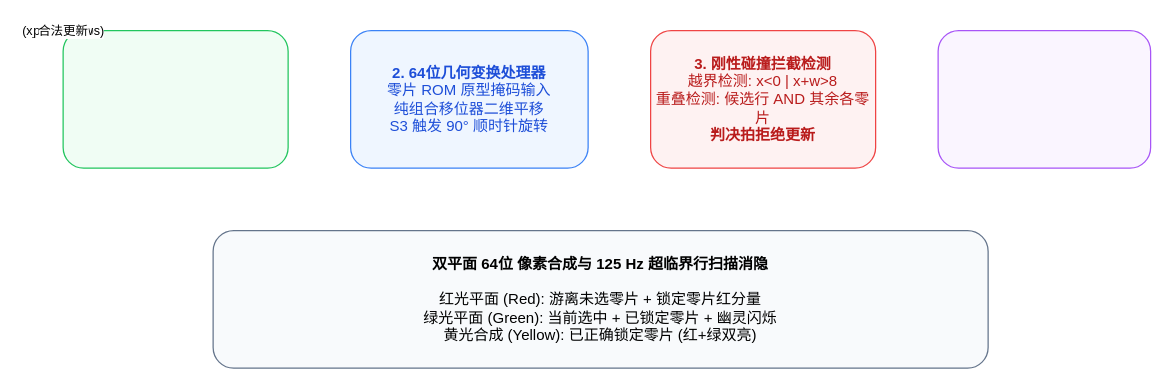
Some shapes in this 1173 by 390 pixel diagram are drawn without their labels. The centre of each missing label's shape, as x and y in pixels:
"1. 随机散落与锚点生成 16位本原多项式 LFSR 动态采样生成 (dx, dy) 即时互检杜绝重叠" belongs at point 175,98.
"4. 锁定与全图验证 S8 确认: piece 并入锁定面 全图比对: 八行 cov 并集 == 目标行 并集吻合且全部锁定 → match" belongs at point 1044,98.
